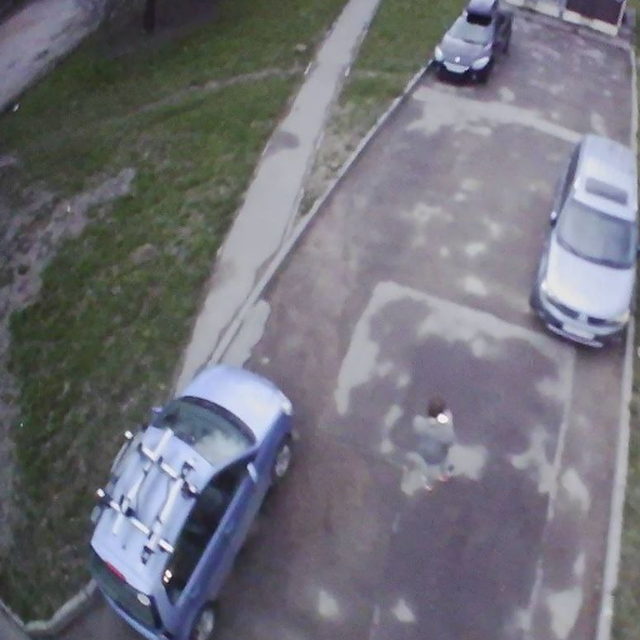car: (83, 362, 295, 640), (532, 133, 640, 350), (430, 1, 513, 86)
